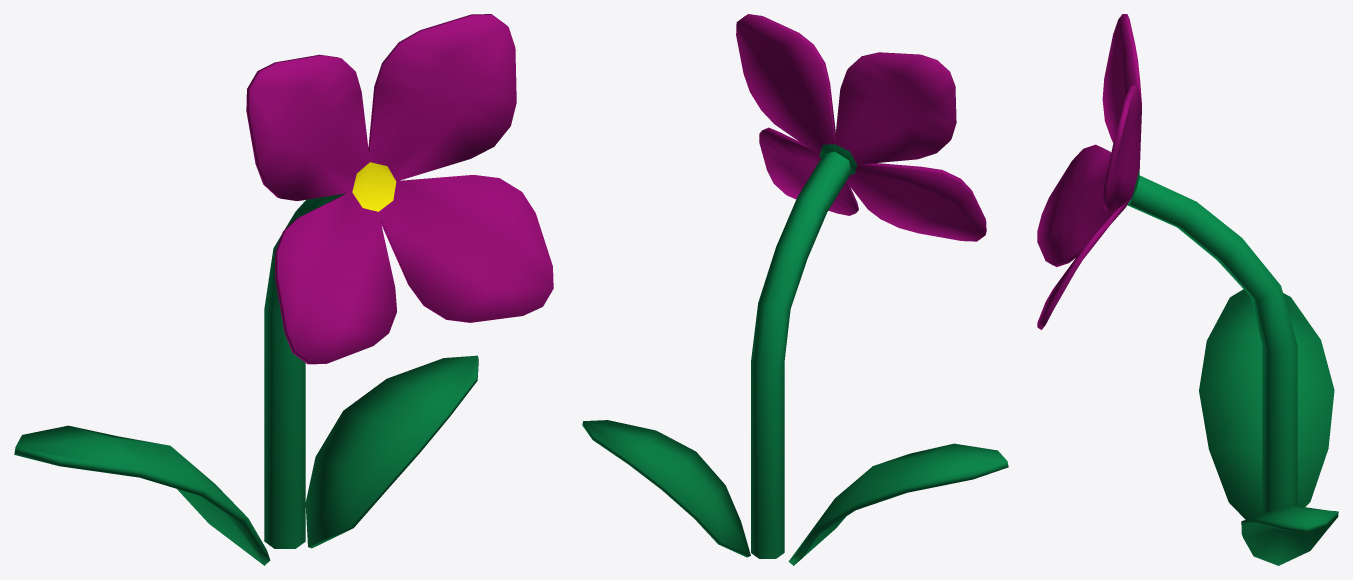
Rendered from Flover_03.3.fbx.
3 renders of one model, left to right at view 1: azimuth 30°, elevation 25°; view 2: azimuth 150°, elevation 25°; view 3: azimuth 270°, elevation 25°, orthographic. The views are drawn at different scales.
Parts seen in each view (by area): view 1: Flover_03.3; view 2: Flover_03.3; view 3: Flover_03.3.
Boxes of the visible parts, bbox=[...] form: Flover_03.3: bbox=[14, 14, 553, 565]; Flover_03.3: bbox=[582, 14, 1008, 565]; Flover_03.3: bbox=[1037, 14, 1338, 565].
Bounding box in the file's own units: 36.31 × 22.5 × 40.9.
